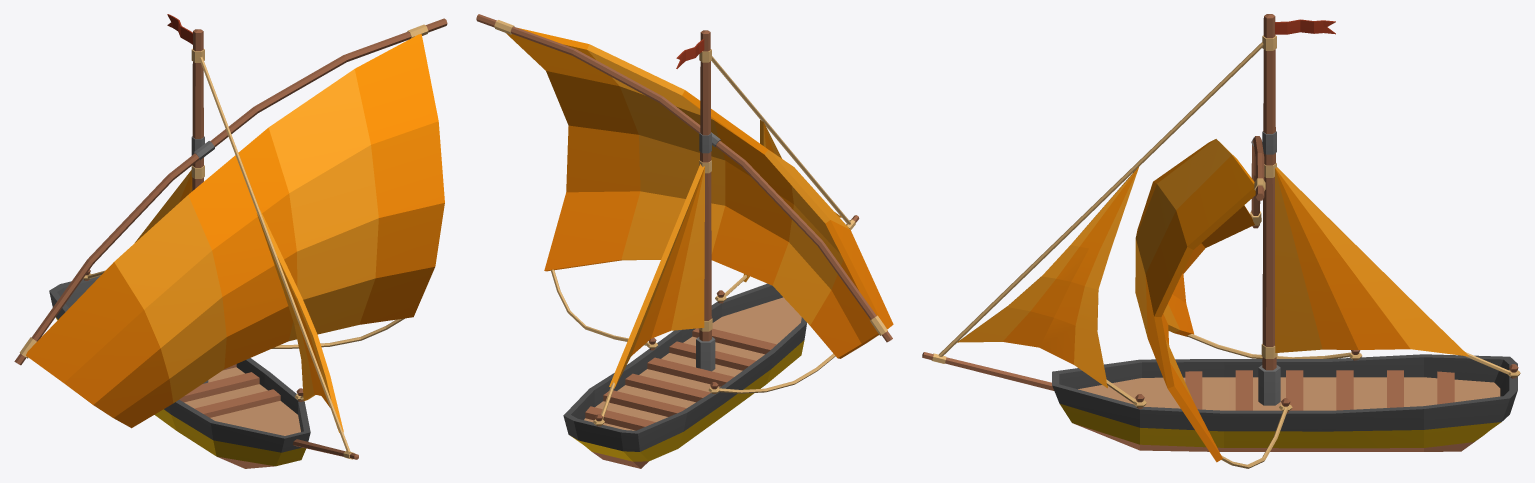
Rendered from ship-2.glb.
The picture shows the model from 3 angles, left to right: view 1: azimuth 30°, elevation 25°; view 2: azimuth 150°, elevation 25°; view 3: azimuth 270°, elevation 25°; orthographic projection. The views are drawn at different scales.
Parts seen in each view (by area): view 1: ship_2; view 2: ship_2; view 3: ship_2.
Part boxes in pixels (x1=…): ship_2: x1=14, y1=14, x2=447, y2=468; ship_2: x1=476, y1=14, x2=893, y2=468; ship_2: x1=922, y1=14, x2=1520, y2=468.
Bounding box in the file's own units: 17.7 × 15.43 × 19.41.
1 material, 1 textured.
